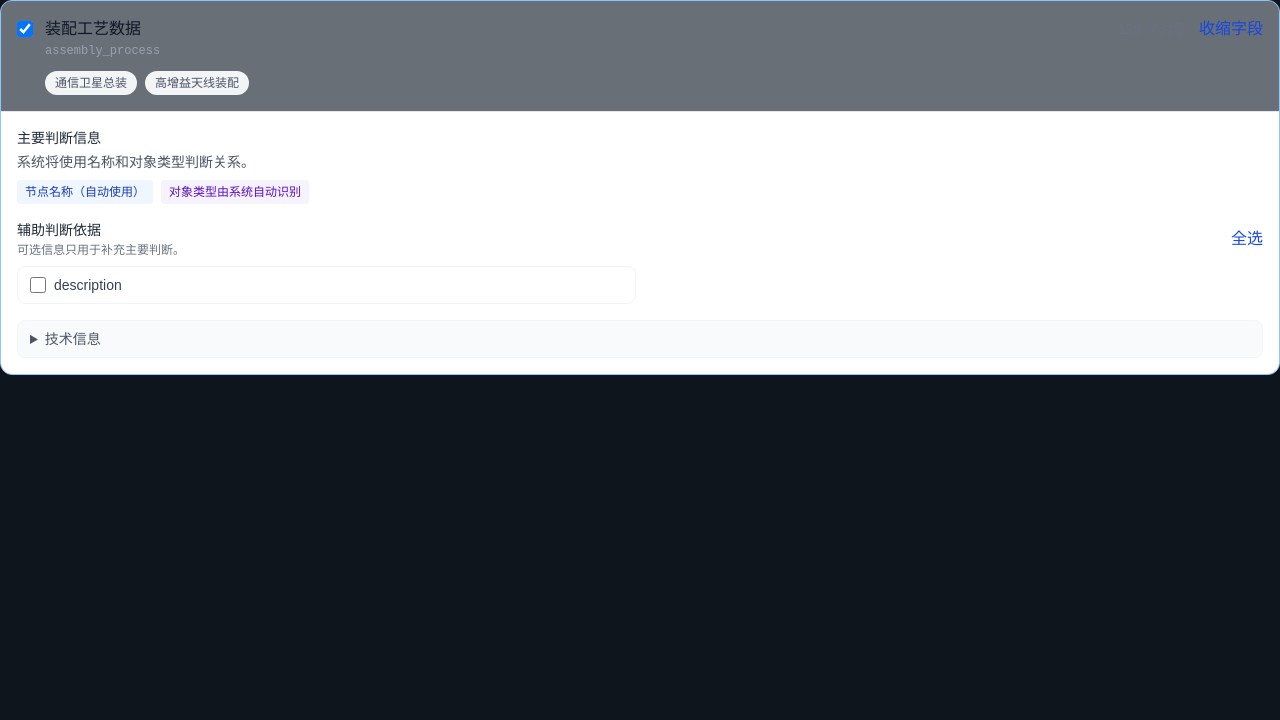
BusinessDatasetCard › presents business context and keeps database metadata behind technical information
Check: the heading "装配工艺数据" is shown, box [45,20,141,37]
Check: the text "assembly_process" is shown, box [45,43,160,59]
Click the heading "技术信息".
click(73, 339)  # box [45,331,101,347]
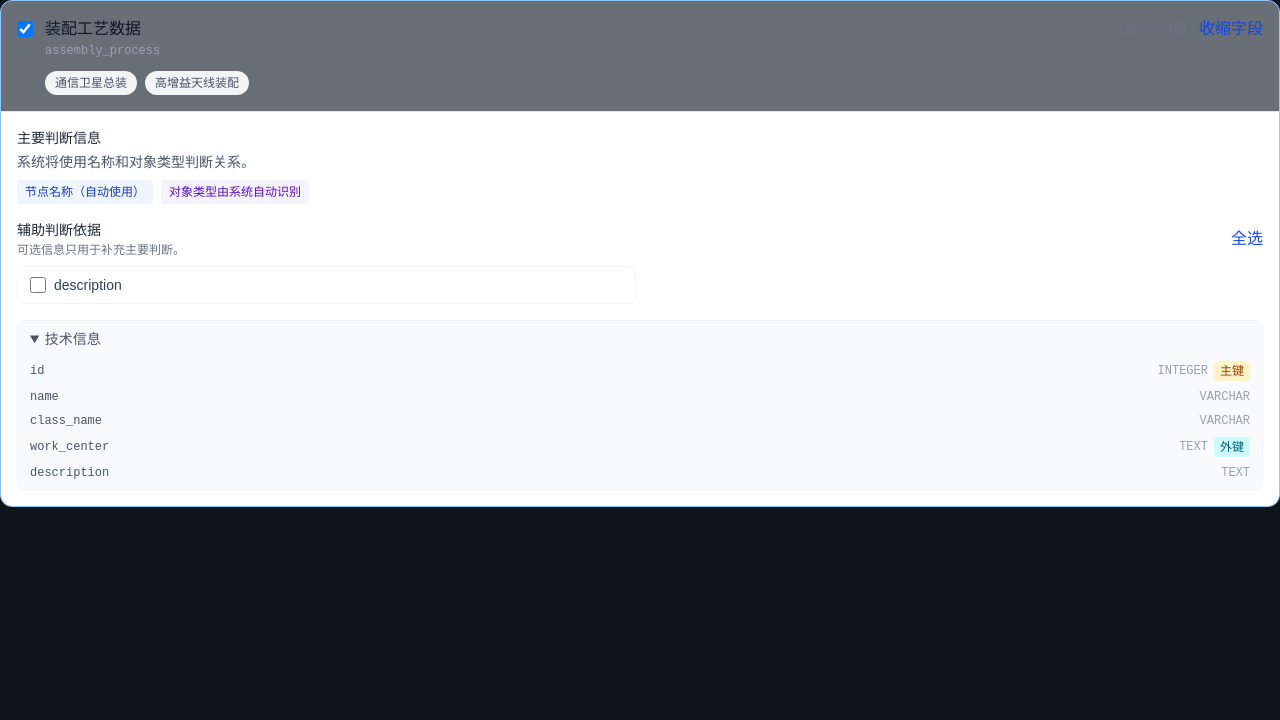
Check: the text "INTEGER" is shown, box [1158,363,1208,379]
Check: the 1st text "VARCHAR" is shown, box [1200,389,1250,405]
Check: the text "VARCHAR" in the row of "class_name" is shown, box [1200,414,1250,428]
